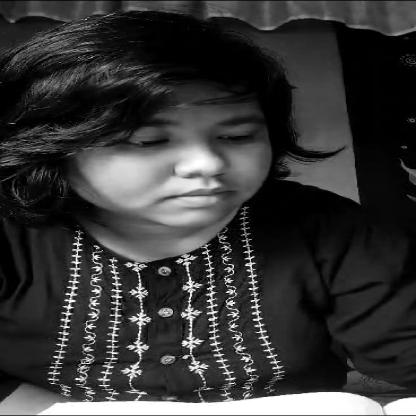Distracted: (57, 77, 276, 229)
